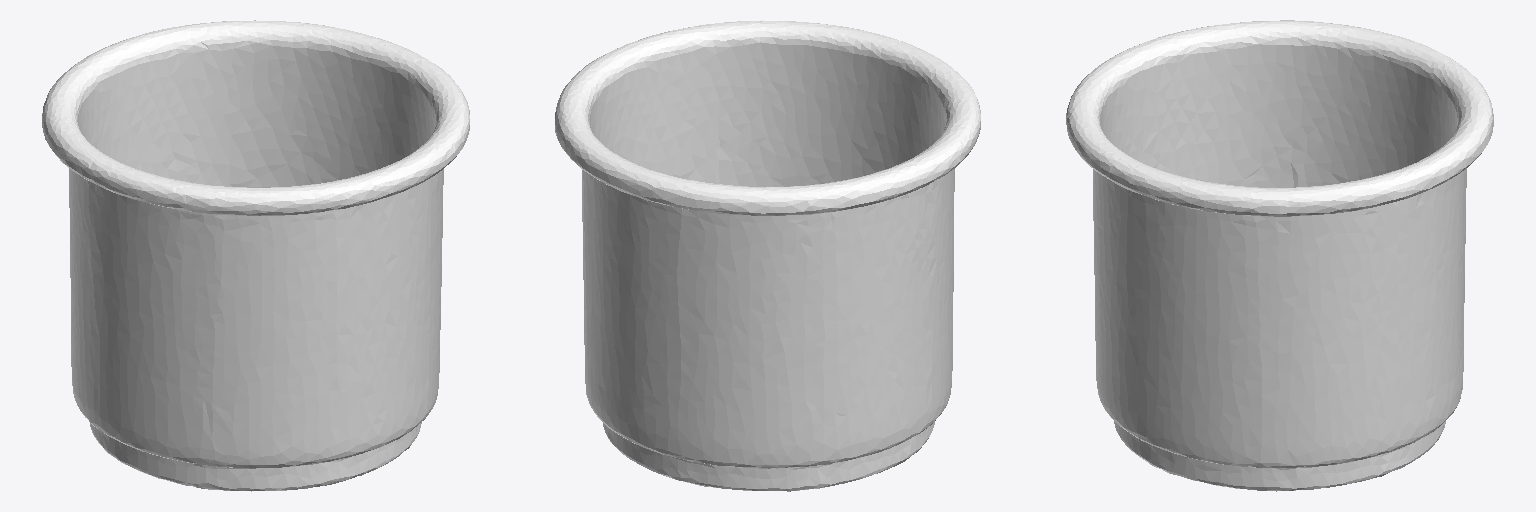
URDF robot description (048_hammer):
<robot name="048_hammer">
	<link name="_name">
		<visual>
			<origin xyz="0.2857086076931064 0.12672673714671626 -0.1565348414608536" rpy="0 0 0" />
			<geometry>
				<mesh filename="048_hammer/google_16k/textured.obj" scale="10 10 10" />
			</geometry>
			<material name="texture">
				<color rgba="1.0 1.0 1.0 1.0" />
			</material>
		</visual>
		<collision>
			<geometry>
				<mesh filename="048_hammer/google_16k/textured_vhacd.obj" scale="10 10 10" />
			</geometry>
		<origin xyz="0.2857086076931064 0.12672673714671626 -0.1565348414608536" rpy="0 0 0" /></collision>
		<inertial>
			<mass value="1.0" />
			<inertia ixx="1.0" ixy="0.0" ixz="0.0" iyy="1.0" iyz="0.0" izz="1.0" />
		</inertial>
	</link>
</robot>

--- Render facts (derived) ---
3 views of the same robot in one strip: view 1: azimuth 30°, elevation 25°; view 2: azimuth 150°, elevation 25°; view 3: azimuth 270°, elevation 25° (orthographic).
Model 048_hammer with 1 links and 0 joints (none), rooted at _name, posed all joints at 0.
Links seen in each view (by area): view 1: _name; view 2: _name; view 3: _name.
Link boxes in pixels (left/top/right/bottom): _name: left=42, top=20, right=469, bottom=491; _name: left=555, top=20, right=980, bottom=491; _name: left=1066, top=20, right=1493, bottom=491.
Size in the robot's own frame: 0.915 by 0.9162 by 0.7506 metres.
1 mesh visuals loaded from 1 distinct referenced files (1 OBJ).